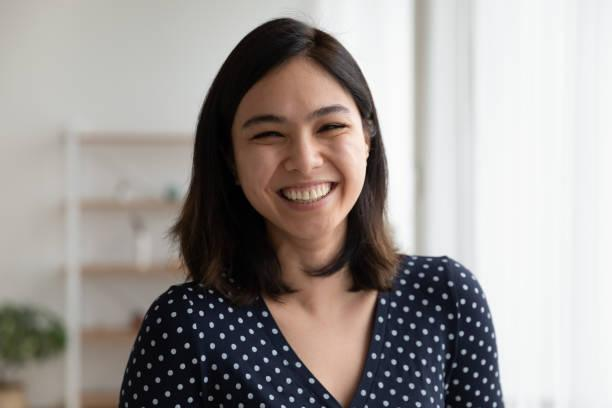no_goggle: (225, 111, 373, 154)
no_helmet: (199, 15, 385, 122)
no_vest: (114, 242, 506, 408)
